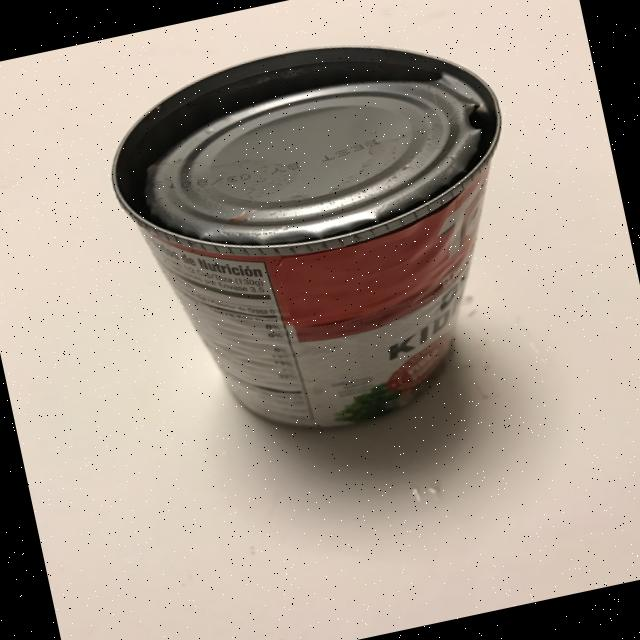metal: (91, 9, 558, 464)
